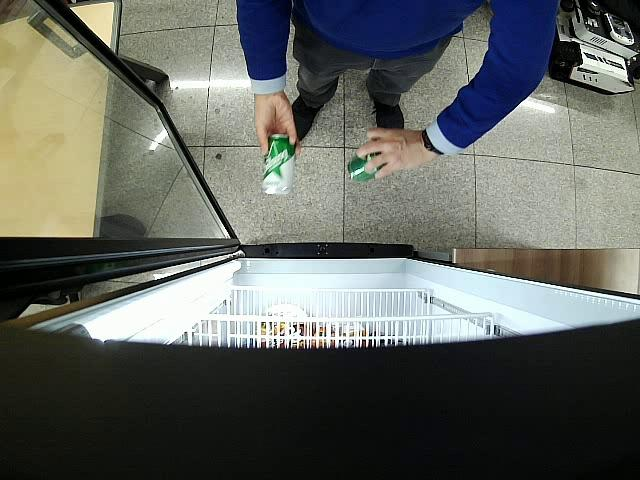00_hand: (358, 127, 421, 179), (253, 96, 302, 158)
12_chilsungCider: (262, 134, 296, 194), (347, 152, 388, 184)
